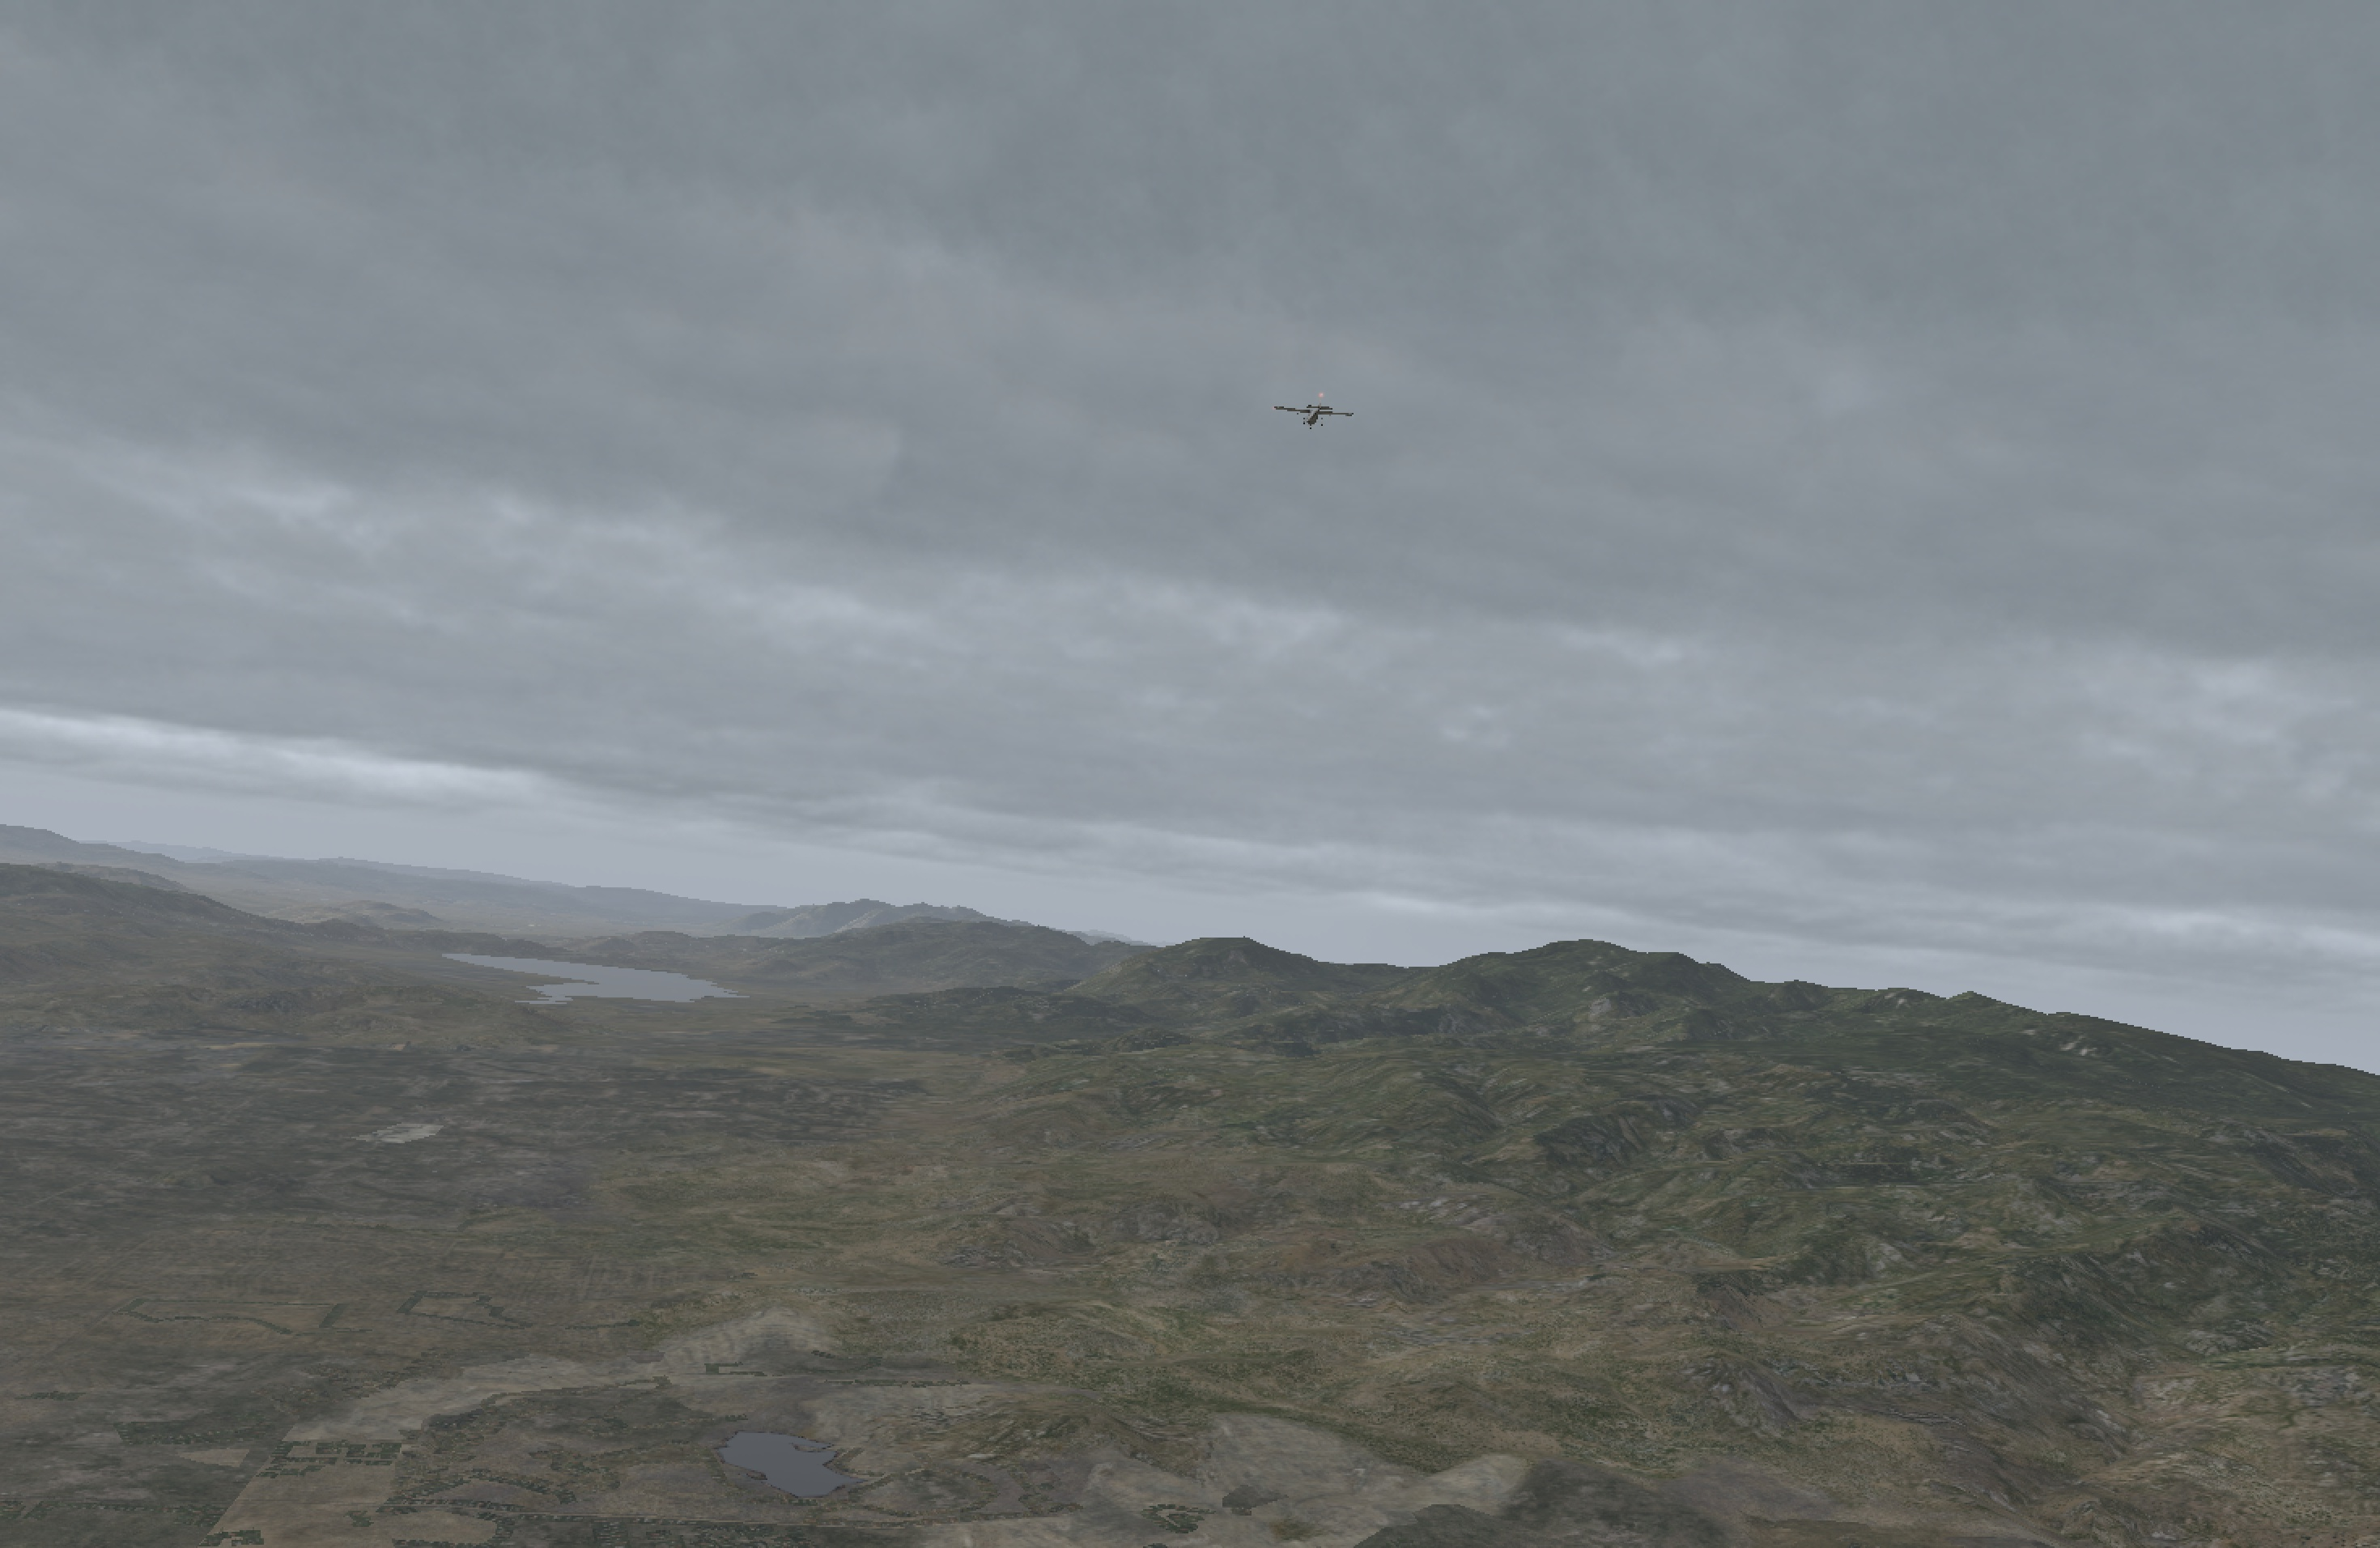aircraft: (1284, 406, 1341, 427)
